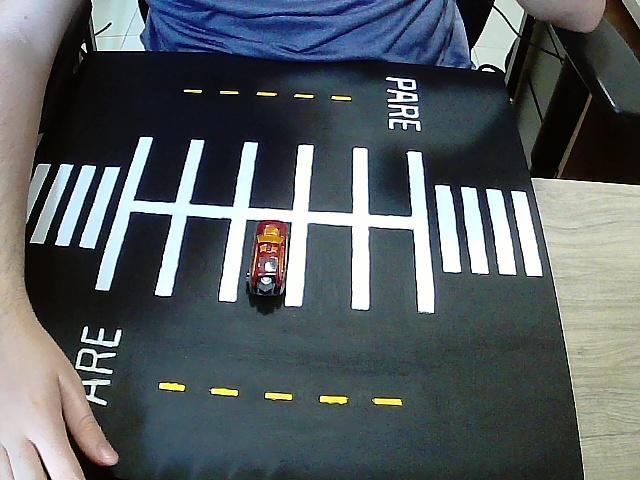Carro: (246, 222, 291, 297)
